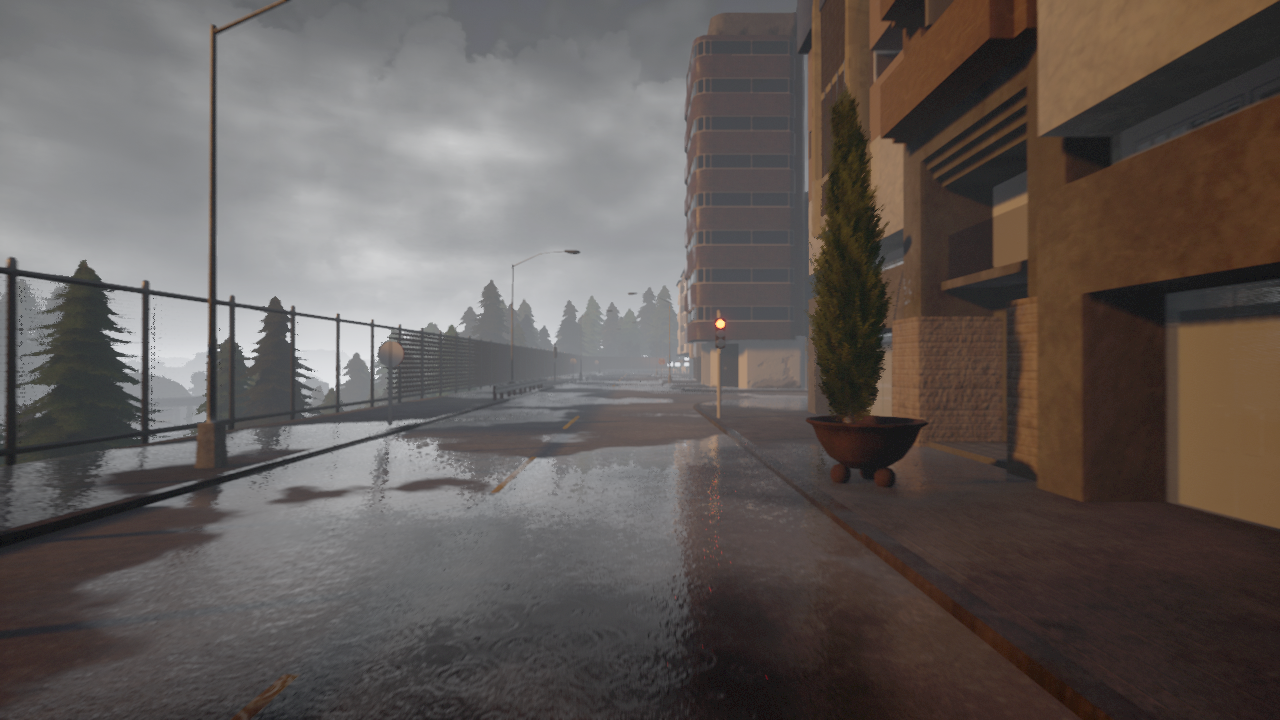red: (714, 317, 728, 350)
